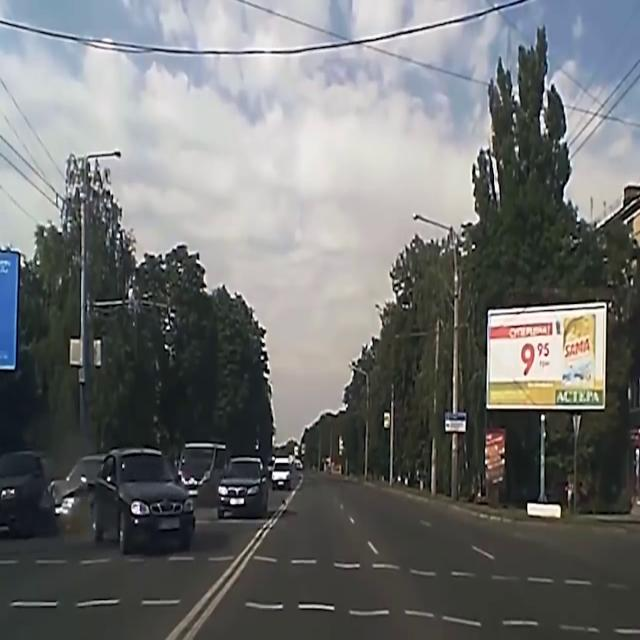multiple_accident: (0, 412, 227, 569)
